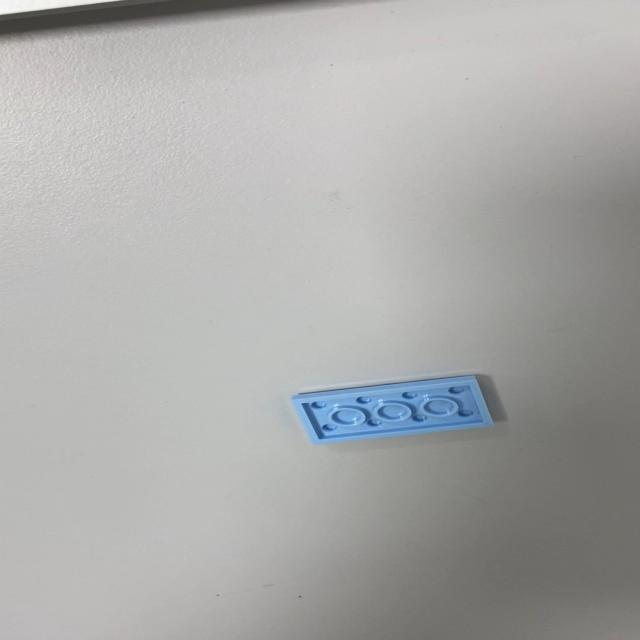C4x2x0: (289, 374, 494, 445)
